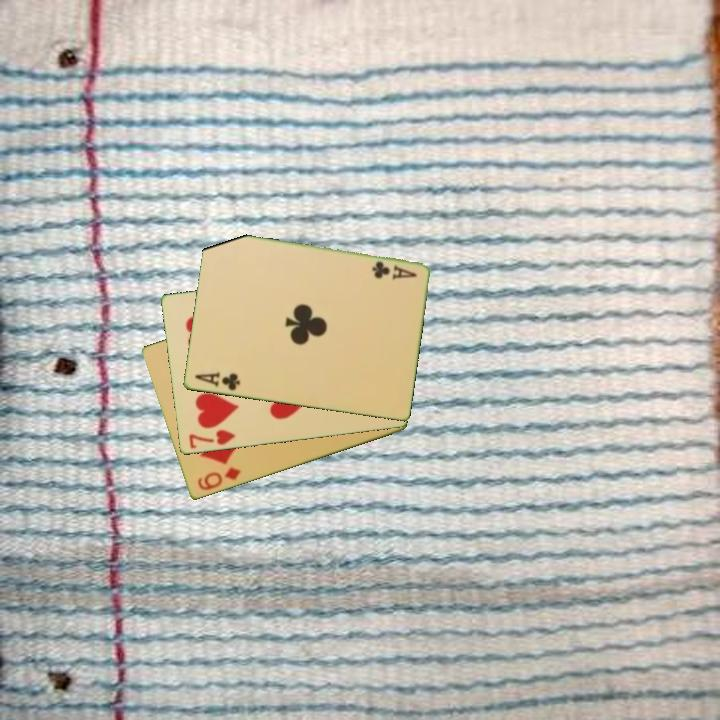6d: (194, 464, 244, 494)
7h: (185, 426, 238, 452)
Ac: (191, 369, 243, 394), (368, 258, 419, 283)
